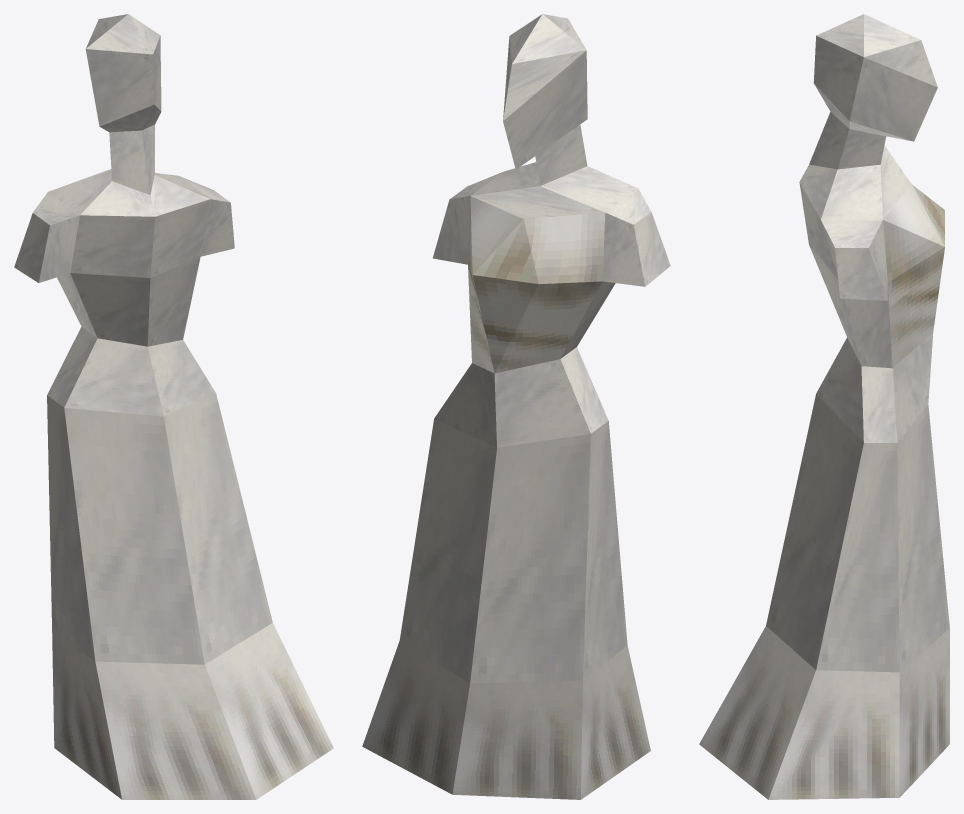
3 renders of one model, left to right at view 1: azimuth 30°, elevation 25°; view 2: azimuth 150°, elevation 25°; view 3: azimuth 270°, elevation 25°, orthographic. The views are drawn at different scales.
Parts seen in each view (by area): view 1: prim191-statue01; view 2: prim191-statue01; view 3: prim191-statue01.
Part boxes in pixels (x1,y1,x2,y2): prim191-statue01: [14, 14, 333, 799]; prim191-statue01: [362, 14, 670, 799]; prim191-statue01: [699, 14, 949, 799].
Size of the model in its own units: 123 by 329 by 105.
2 materials, 2 textured.
